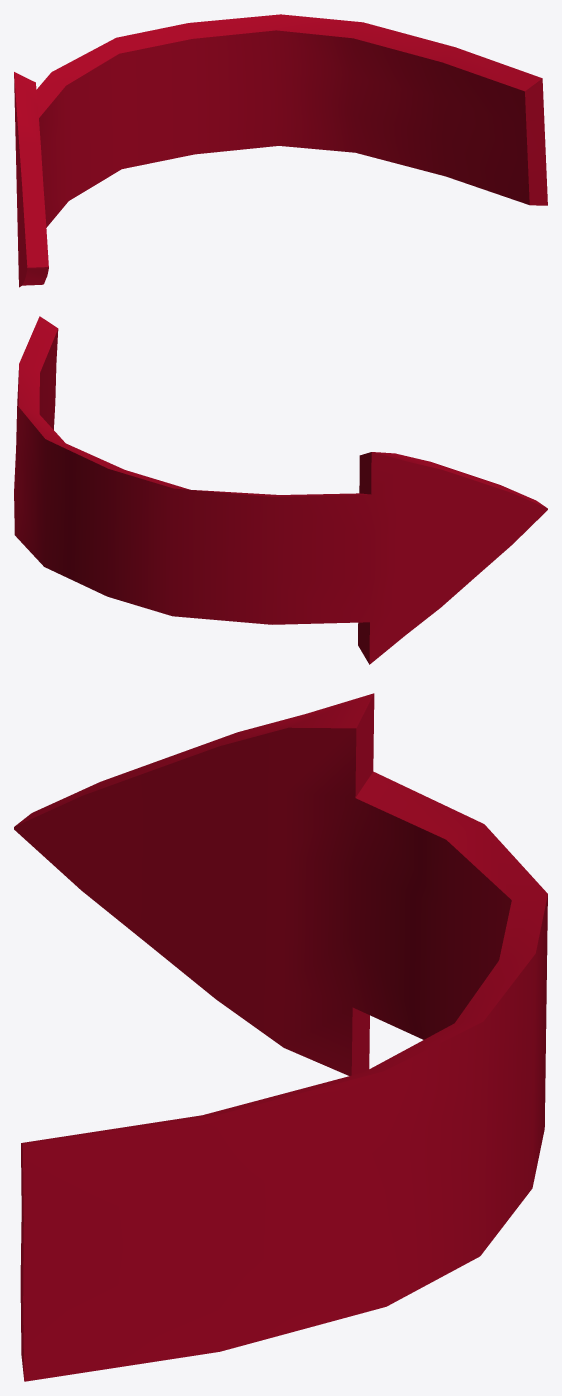
The model's file is IconRotate.fbx.
The picture shows the model from 3 angles, top to bottom: view 1: azimuth 30°, elevation 25°; view 2: azimuth 150°, elevation 25°; view 3: azimuth 270°, elevation 25°; orthographic projection. The views are drawn at different scales.
Parts seen in each view (by area): view 1: pCube2; view 2: pCube2; view 3: pCube2.
Boxes of the visible parts, x1,y1,x2,y2 form: pCube2: [14, 14, 547, 287]; pCube2: [14, 316, 547, 664]; pCube2: [14, 693, 547, 1381].
Size of the model in its own units: 4.76 by 1.89 by 2.36.
